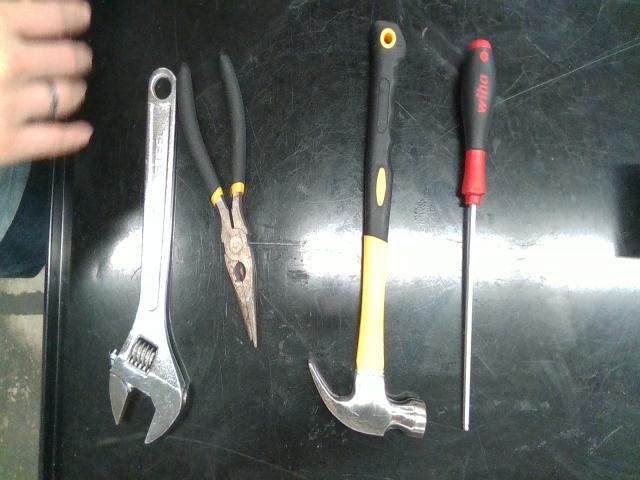Adjustable spanner: (109, 68, 188, 443)
Hammer: (309, 20, 426, 437)
Hand: (0, 0, 92, 166)
Needle-nose pliers: (178, 53, 258, 347)
Screwdriver: (461, 38, 495, 432)
